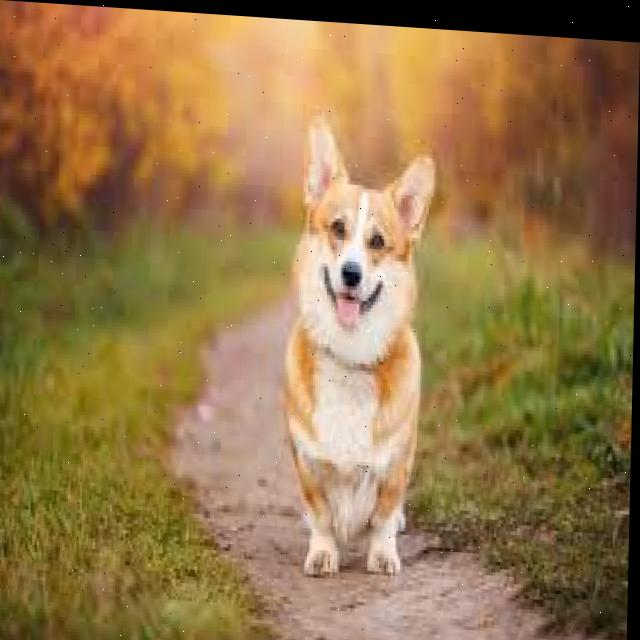CORGI: (277, 106, 463, 590)
